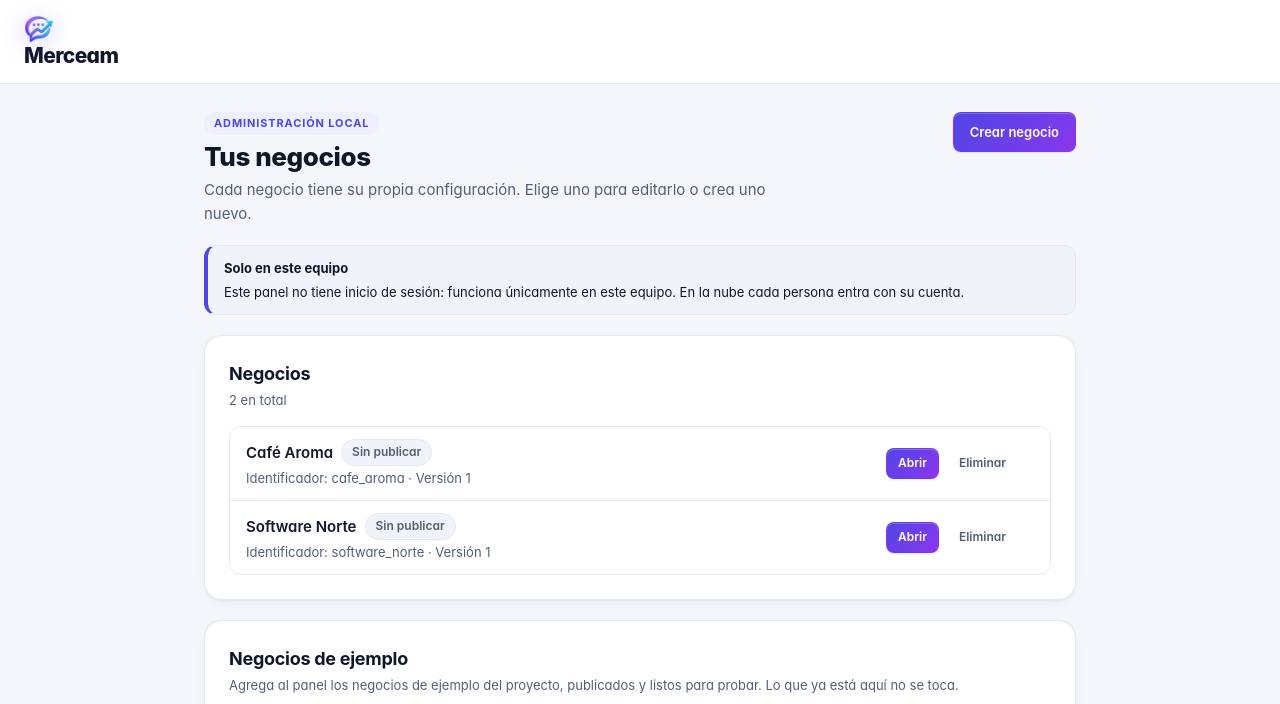
Test: Administración de negocios › eliminar dice qué se pierde, exige escribir el nombre y no toca los demás negocios
Check: the heading "Tus negocios" is shown, box top-left (204, 141), bottom-right (810, 172)
Click the button with aria-label "Eliminar Café Aroma" at (982,464), box top-left (947, 448), bottom-right (1018, 479)
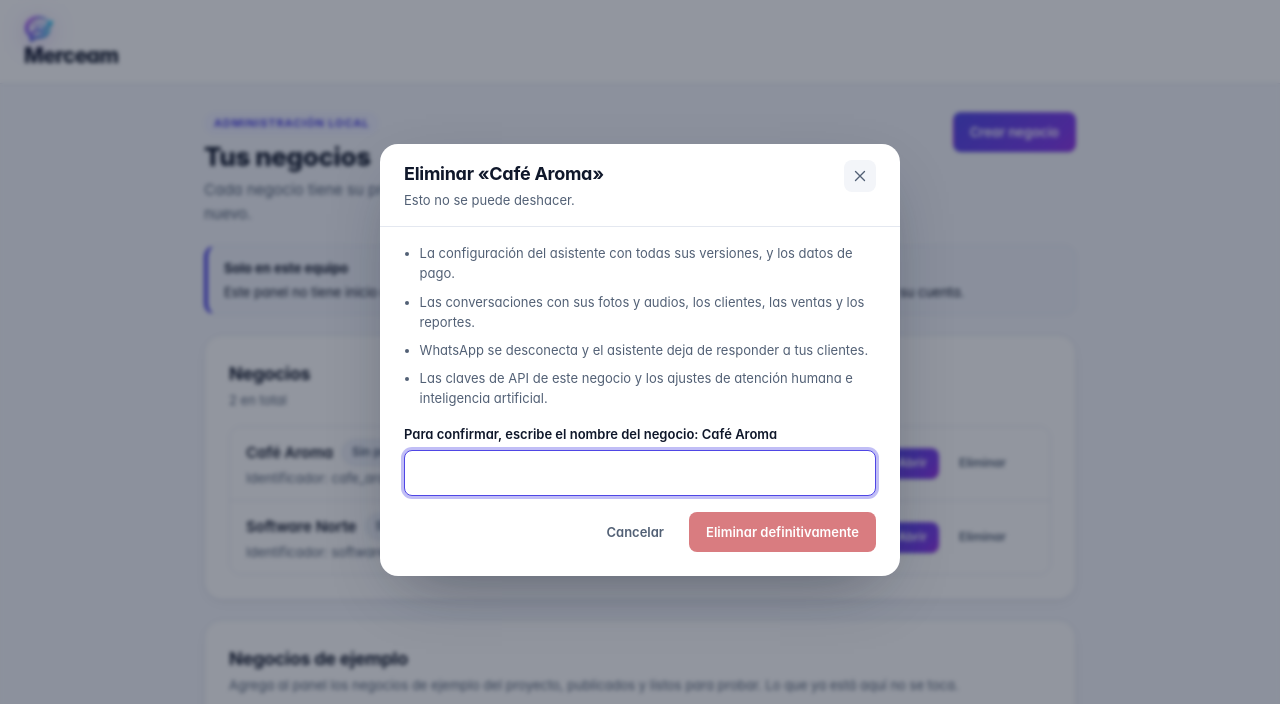
Check: the list item "WhatsApp se desconecta" is shown, box top-left (420, 342), bottom-right (868, 358)
Check: the button "Eliminar definitivamente" is disabled, box top-left (689, 512), bottom-right (876, 552)
Type "Café" into the field labelled "Para confirmar, escribe el nombre del negocio: Café Aroma" at (640,473), box top-left (404, 450), bottom-right (876, 496)
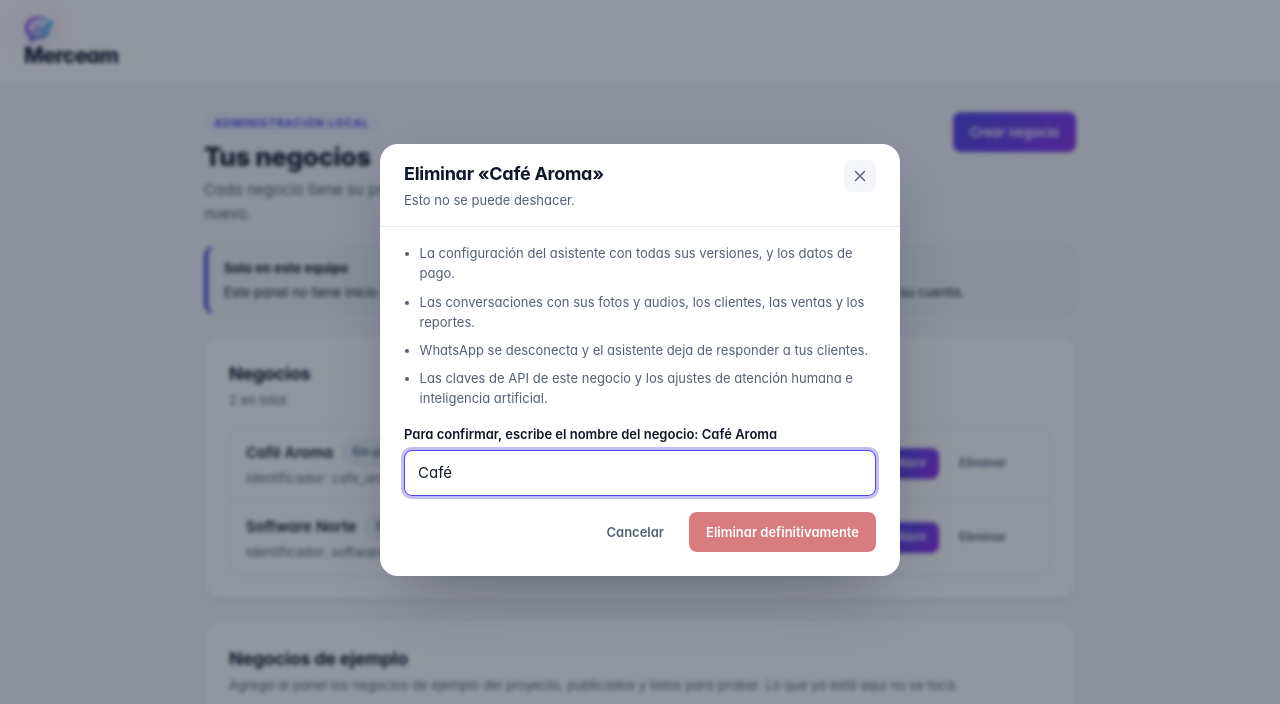
Check: the button "Eliminar definitivamente" is disabled, box top-left (689, 512), bottom-right (876, 552)
Type "  aroma " into the field labelled "Para confirmar, escribe el nombre del negocio: Café Aroma" at (640,473), box top-left (404, 450), bottom-right (876, 496)
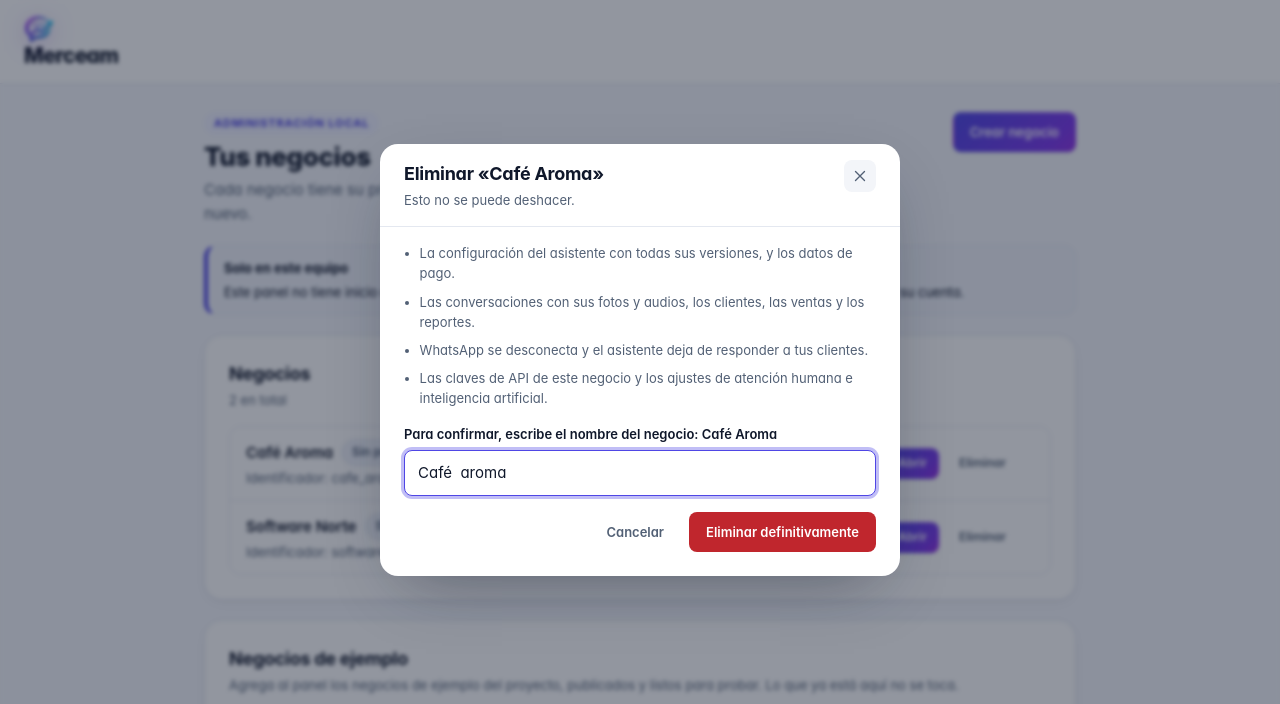
Check: the button "Eliminar definitivamente" is enabled
Click the button "Eliminar definitivamente" at (782,532), box top-left (689, 512), bottom-right (876, 552)
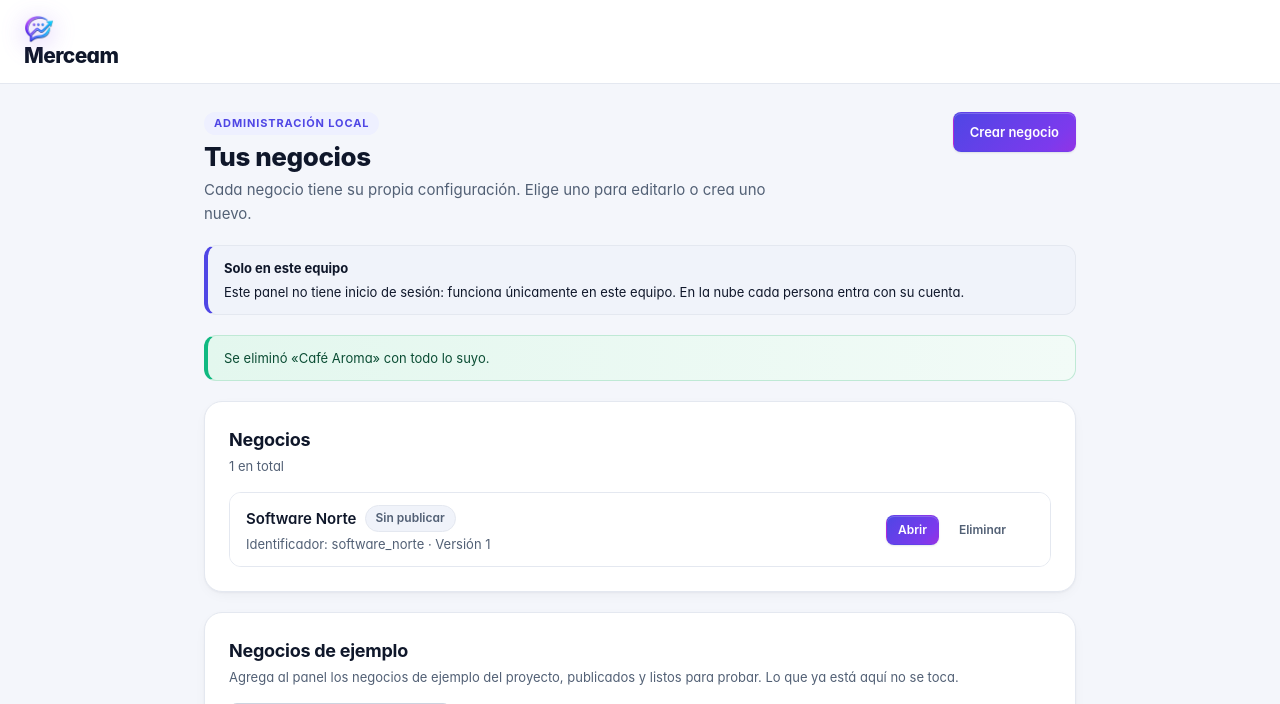
Check: the text "Se eliminó «Café Aroma» con todo lo suyo." is shown, box top-left (204, 335), bottom-right (1076, 381)
Check: the number of list items is 1, box top-left (230, 493), bottom-right (1050, 566)
